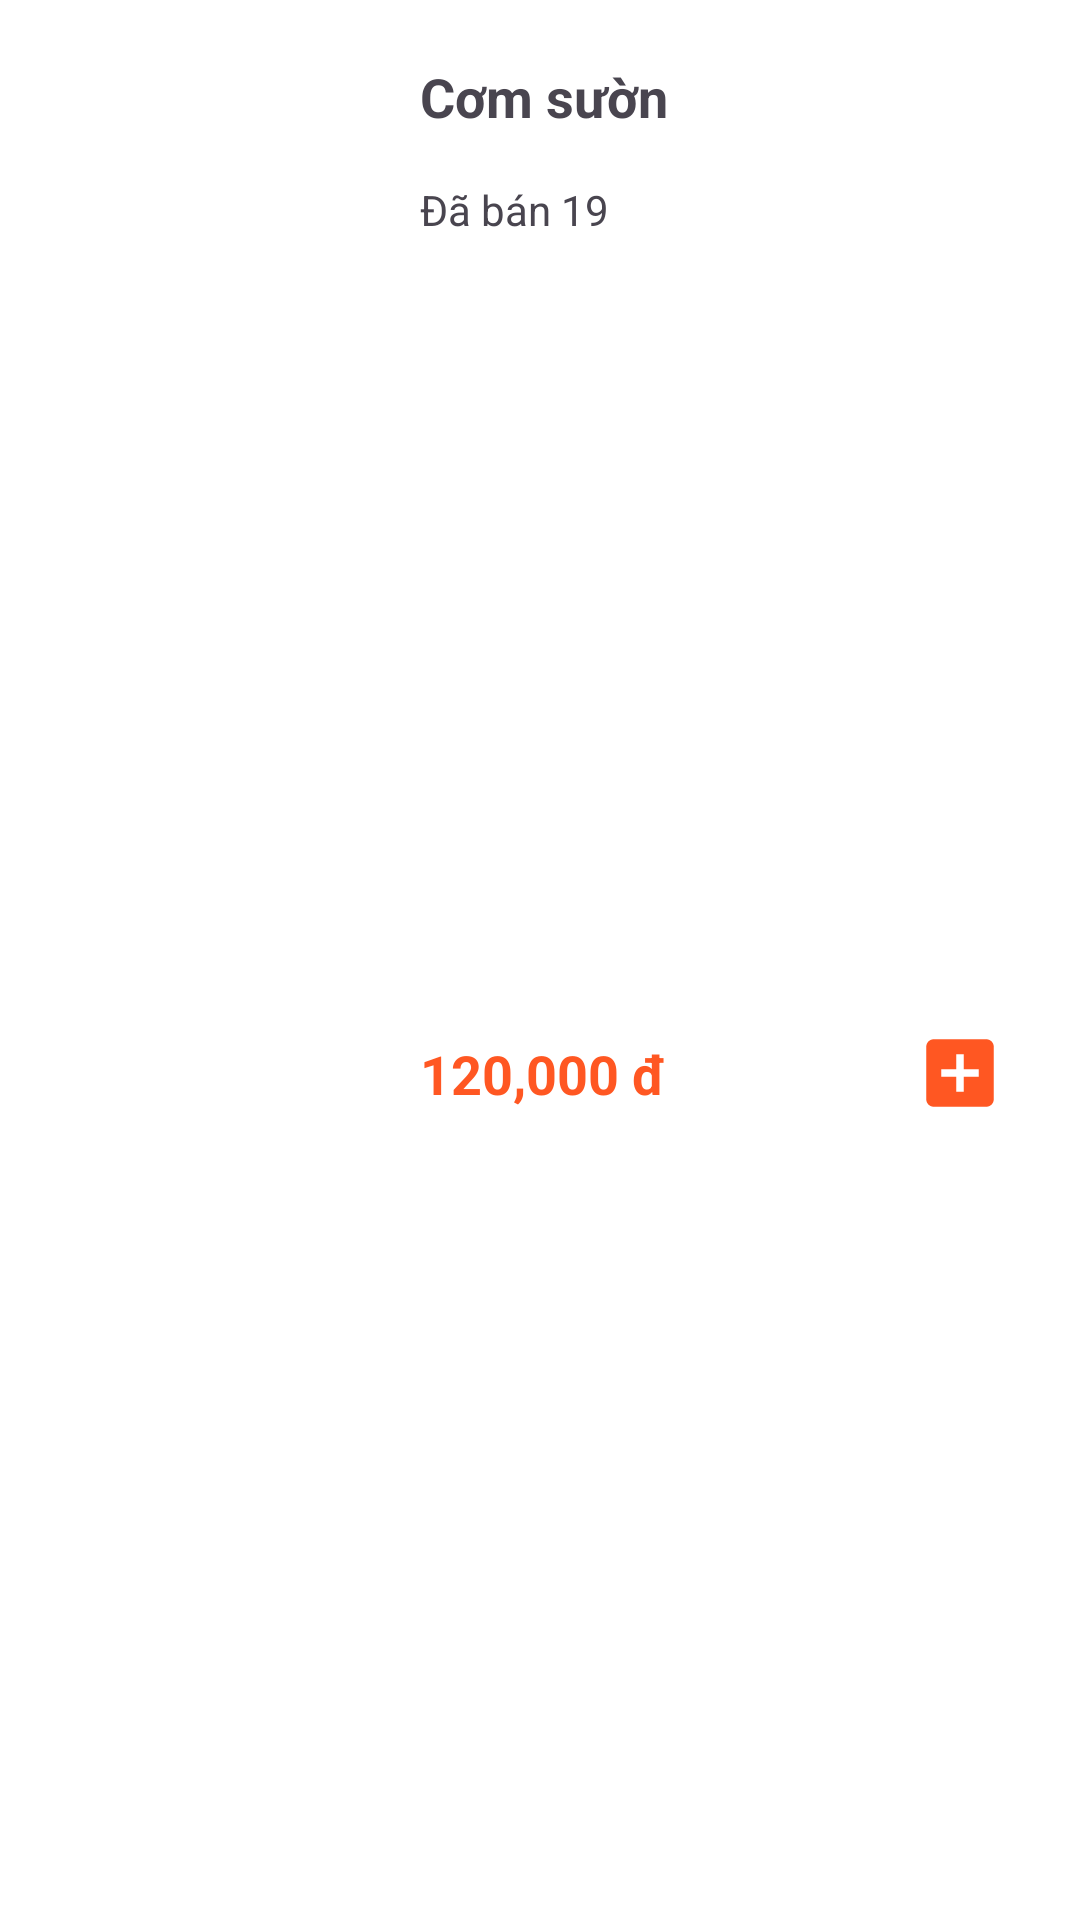

Named icons in this screenshot (1080×1920) and their bounding boxes, (x1, y1, x2, y2):
add box: (926, 1039, 994, 1107)
